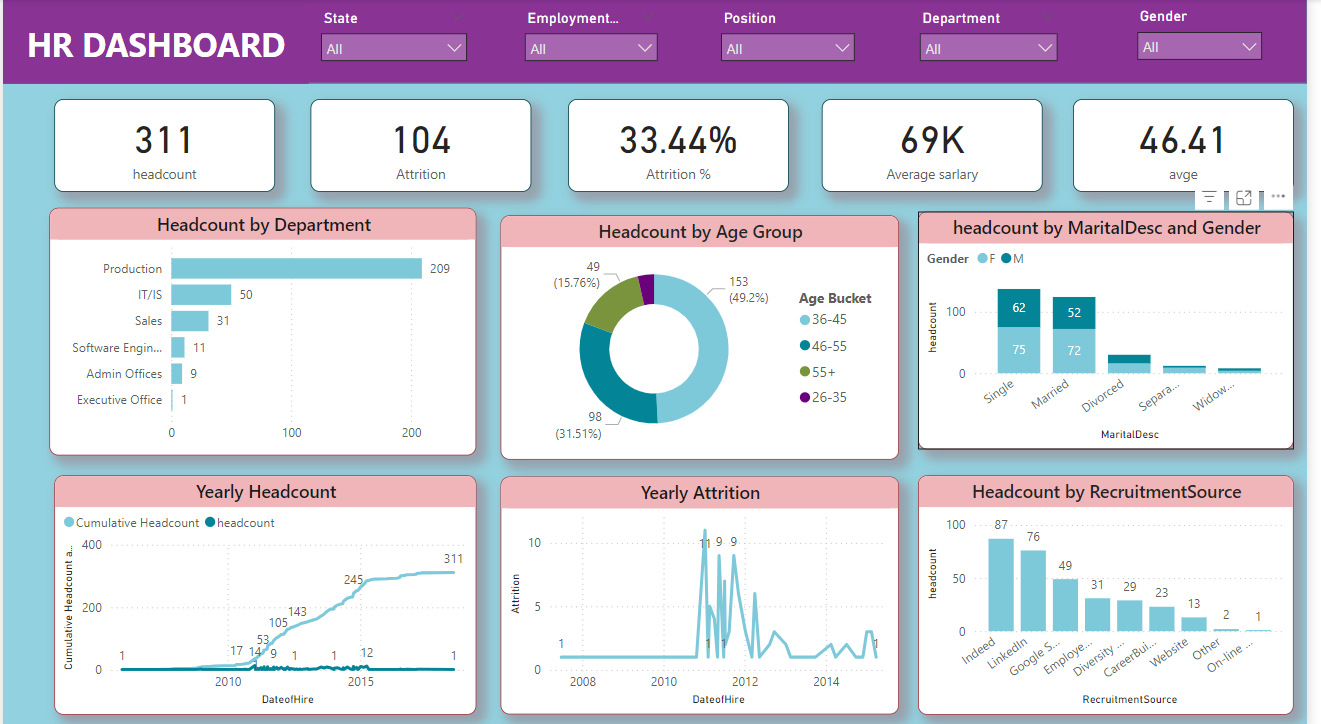

The dashboard page shown, as its layout file describes it:
{"tool":"powerbi","page":{"name":"Page 1","canvas":[1280,720],"ordinal":0},"visuals":[{"type":"shape","box":[0,0,1280.5,83.1],"z":0},{"type":"card","fields":{"Values":["measures (2).headcount"]},"box":[50.6,98.7,216.9,90.9],"z":1000},{"type":"card","fields":{"Values":["measures (2).Attrition"]},"box":[301.3,98.7,216.9,90.9],"z":2000},{"type":"card","fields":{"Values":["measures (2).attrition %"]},"box":[554.5,98.7,216.9,90.9],"z":3000},{"type":"card","fields":{"Values":["measures (2).Average sarlary"]},"box":[803.9,98.7,216.9,90.9],"z":4000},{"type":"card","fields":{"Values":["measures (2).avge"]},"box":[1050.6,98.7,216.9,90.9],"z":5000},{"type":"barChart","title":"Headcount by Department","fields":{"Y":["measures (2).headcount"],"Category":["HRDataset_v14.Department"]},"box":[45.5,205.2,419.5,242.9],"z":6000},{"type":"donutChart","title":"Headcount by Age Group","fields":{"Category":["HRDataset_v14.Age Bucket"],"Y":["measures (2).headcount"]},"box":[488.3,211.7,390.9,240.3],"z":7000},{"type":"columnChart","title":"headcount by MaritalDesc and Gender","fields":{"Y":["measures (2).headcount"],"Category":["HRDataset_v14.MaritalDesc"],"Series":["HRDataset_v14.Gender"]},"box":[898.7,209.1,368.8,233.8],"z":8000},{"type":"lineChart","title":"Yearly Headcount","fields":{"Y":["measures (2).Cumulative Headcount","measures (2).headcount"],"Category":["HRDataset_v14.DateofHire"]},"box":[50.6,467.5,414.3,235.1],"z":9000},{"type":"lineChart","title":"Yearly Attrition ","fields":{"Y":["measures (2).Attrition"],"Category":["HRDataset_v14.DateofHire"]},"box":[488.3,468.8,390.9,233.8],"z":10000},{"type":"columnChart","title":"Headcount by RecruitmentSource","fields":{"Y":["measures (2).headcount"],"Category":["HRDataset_v14.RecruitmentSource"]},"box":[898.7,467.5,368.8,235.1],"z":11000},{"type":"slicer","fields":{"Values":["HRDataset_v14.Gender"]},"box":[1102.6,3.9,142.9,66.2],"z":12000},{"type":"slicer","fields":{"Values":["HRDataset_v14.State"]},"box":[301.3,5.2,163.6,67.5],"z":13000},{"type":"slicer","fields":{"Values":["HRDataset_v14.Position"]},"box":[694.8,5.2,151.9,64.9],"z":14000},{"type":"slicer","fields":{"Values":["HRDataset_v14.Department"]},"box":[889.6,5.2,155.8,64.9],"z":15000},{"type":"slicer","fields":{"Values":["HRDataset_v14.EmploymentStatus"]},"box":[501.3,5.2,150.6,64.9],"z":16000},{"type":"textbox","box":[0,0,300,83.1],"z":17000}]}

Visuals, with their boxes in screenshot pixels (x1, y1, x2, y2), scaled from the page's 1280x720 canvas onto the 1321x724 screenshot:
shape: locate(0, 0, 1320, 84)
card - measures (2).headcount: locate(52, 99, 276, 191)
card - measures (2).Attrition: locate(311, 99, 535, 191)
card - measures (2).attrition %: locate(572, 99, 796, 191)
card - measures (2).Average sarlary: locate(830, 99, 1053, 191)
card - measures (2).avge: locate(1084, 99, 1308, 191)
"Headcount by Department" barChart: locate(47, 206, 480, 451)
"Headcount by Age Group" donutChart: locate(504, 213, 907, 455)
"headcount by MaritalDesc and Gender" columnChart: locate(927, 210, 1308, 445)
"Yearly Headcount" lineChart: locate(52, 470, 480, 707)
"Yearly Attrition " lineChart: locate(504, 471, 907, 707)
"Headcount by RecruitmentSource" columnChart: locate(927, 470, 1308, 707)
slicer - HRDataset_v14.Gender: locate(1138, 4, 1285, 70)
slicer - HRDataset_v14.State: locate(311, 5, 480, 73)
slicer - HRDataset_v14.Position: locate(717, 5, 874, 70)
slicer - HRDataset_v14.Department: locate(918, 5, 1079, 70)
slicer - HRDataset_v14.EmploymentStatus: locate(517, 5, 673, 70)
textbox: locate(0, 0, 310, 84)
